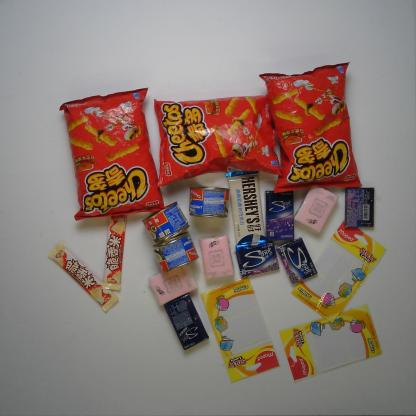Canned Food: (138, 198, 191, 243), (151, 231, 200, 275), (186, 179, 232, 222)
Chocolate: (48, 242, 123, 314), (226, 167, 268, 247), (102, 207, 127, 294)
Gum: (162, 290, 212, 354), (260, 182, 301, 244), (338, 176, 381, 232), (276, 235, 322, 286), (231, 237, 282, 278)
Puffed Food: (59, 83, 167, 223), (256, 59, 364, 196), (151, 91, 284, 188)
Stationery: (290, 217, 388, 324), (197, 272, 282, 386), (276, 297, 385, 384)
Tissue: (293, 182, 342, 240), (143, 262, 203, 308), (193, 233, 242, 280)
